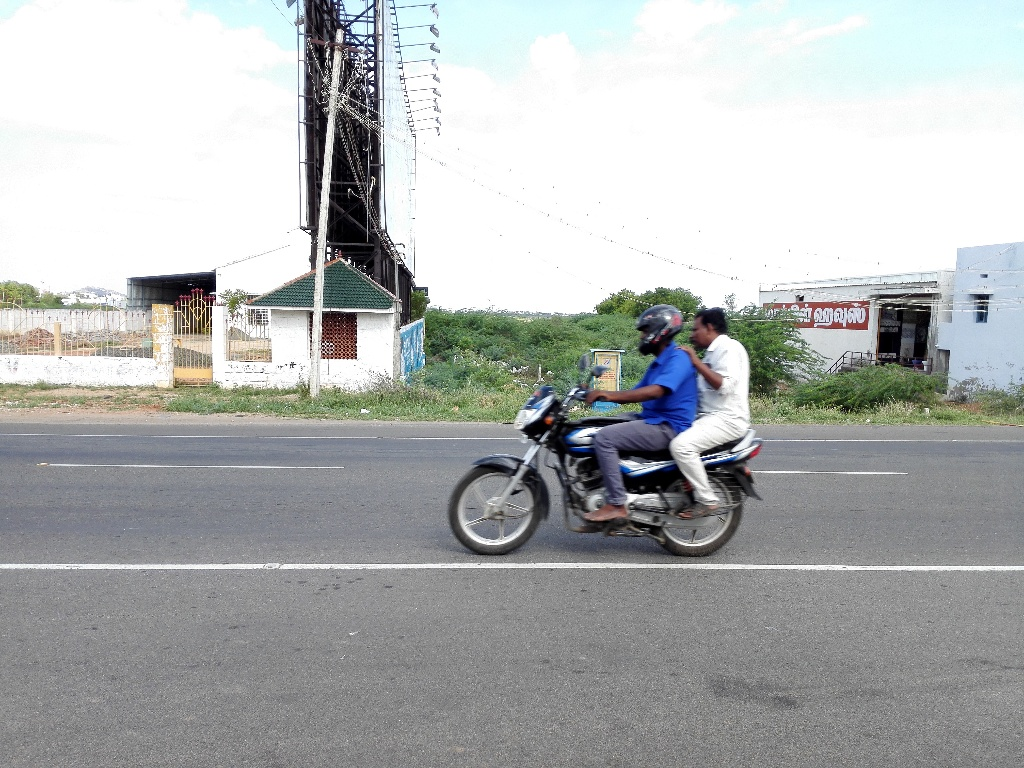biker: (435, 245, 792, 574)
helmet: (626, 291, 690, 361)
nohelmet: (688, 297, 733, 360)
